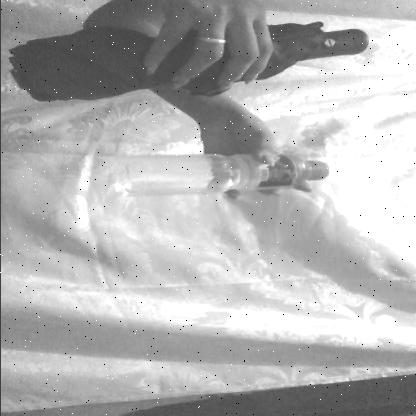Plastic Bottle: (92, 147, 347, 215)
